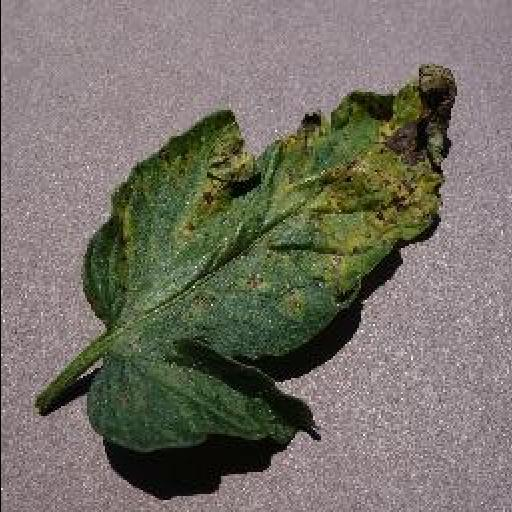disease_tomato: (82, 59, 466, 457)
